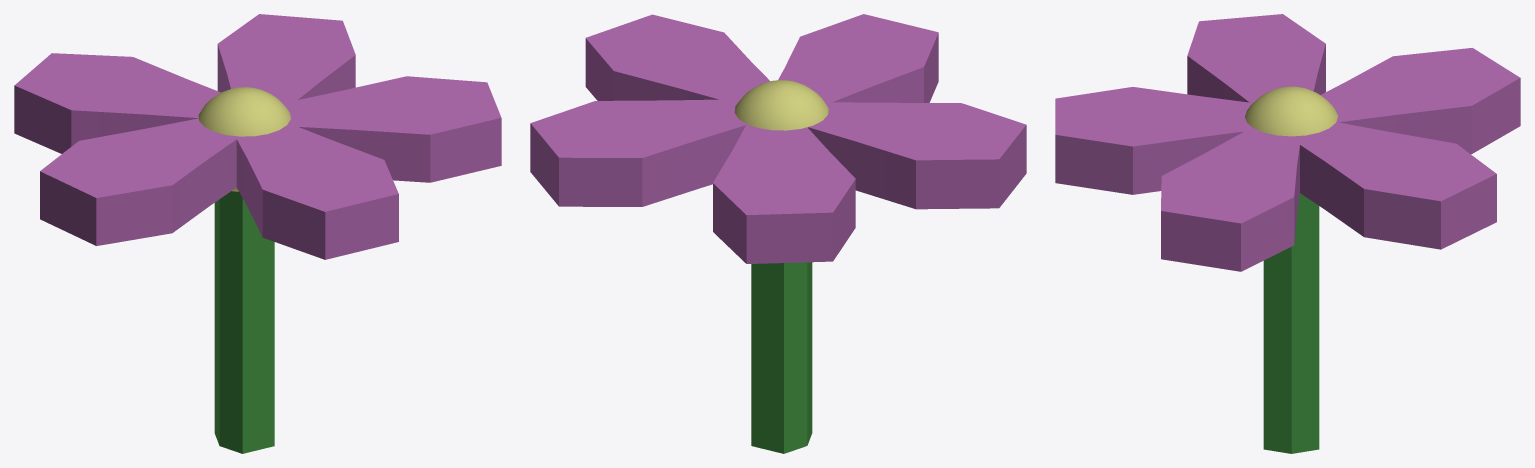
The model's file is flower2.fbx.
3 views of the same model, side by side, from view 1: azimuth 30°, elevation 25°; view 2: azimuth 150°, elevation 25°; view 3: azimuth 270°, elevation 25° (orthographic).
Parts seen in each view (by area): view 1: pCube2, pCube1, pCube5, pCylinder1, pCube3, pCube4, pSphere1; view 2: pCube4, pCube2, pCube3, pCube5, pCylinder1, pCube1, pSphere1; view 3: pCube4, pCube5, pCube1, pCube3, pCylinder1, pCube2, pSphere1.
Boxes of the visible parts, x1=… form: pCube2: x1=40, y1=118, x2=239, y2=245; pCube1: x1=236, y1=123, x2=398, y2=259; pCube5: x1=283, y1=76, x2=501, y2=182; pCylinder1: x1=214, y1=191, x2=274, y2=453; pCube3: x1=14, y1=53, x2=220, y2=153; pCube4: x1=217, y1=14, x2=355, y2=108; pSphere1: x1=198, y1=87, x2=290, y2=191; pCube4: x1=530, y1=99, x2=746, y2=206; pCube2: x1=808, y1=102, x2=1026, y2=209; pCube3: x1=713, y1=124, x2=855, y2=263; pCube5: x1=585, y1=14, x2=769, y2=100; pCylinder1: x1=751, y1=262, x2=812, y2=453; pCube1: x1=778, y1=14, x2=938, y2=104; pSphere1: x1=734, y1=80, x2=828, y2=130; pCube4: x1=1289, y1=122, x2=1496, y2=249; pCube5: x1=1161, y1=130, x2=1300, y2=271; pCube1: x1=1055, y1=87, x2=1256, y2=194; pCube3: x1=1320, y1=48, x2=1520, y2=154; pCylinder1: x1=1263, y1=193, x2=1319, y2=453; pCube2: x1=1187, y1=14, x2=1325, y2=103; pSphere1: x1=1245, y1=86, x2=1338, y2=136.
Size of the model in its own units: 9.29 by 7.24 by 8.72.
